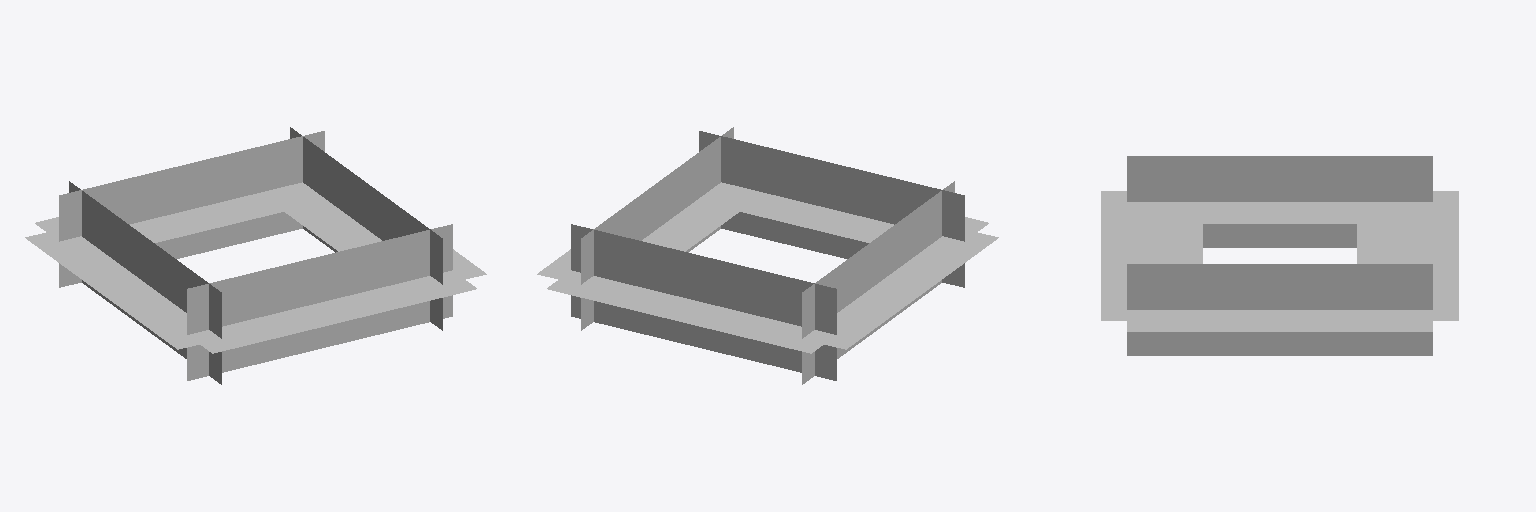
File: ConstructionGridTile_Mesh.obj
3 renders of one model, left to right at view 1: azimuth 30°, elevation 25°; view 2: azimuth 150°, elevation 25°; view 3: azimuth 270°, elevation 25°, orthographic.
Parts seen in each view (by area): view 1: ConstructionGridCell.008; view 2: ConstructionGridCell.008; view 3: ConstructionGridCell.008.
Boxes of the visible parts, x1=… form: ConstructionGridCell.008: x1=25, y1=127, x2=486, y2=384; ConstructionGridCell.008: x1=537, y1=127, x2=998, y2=384; ConstructionGridCell.008: x1=1101, y1=156, x2=1458, y2=355.
Size of the model in its own units: 7 by 2 by 7.